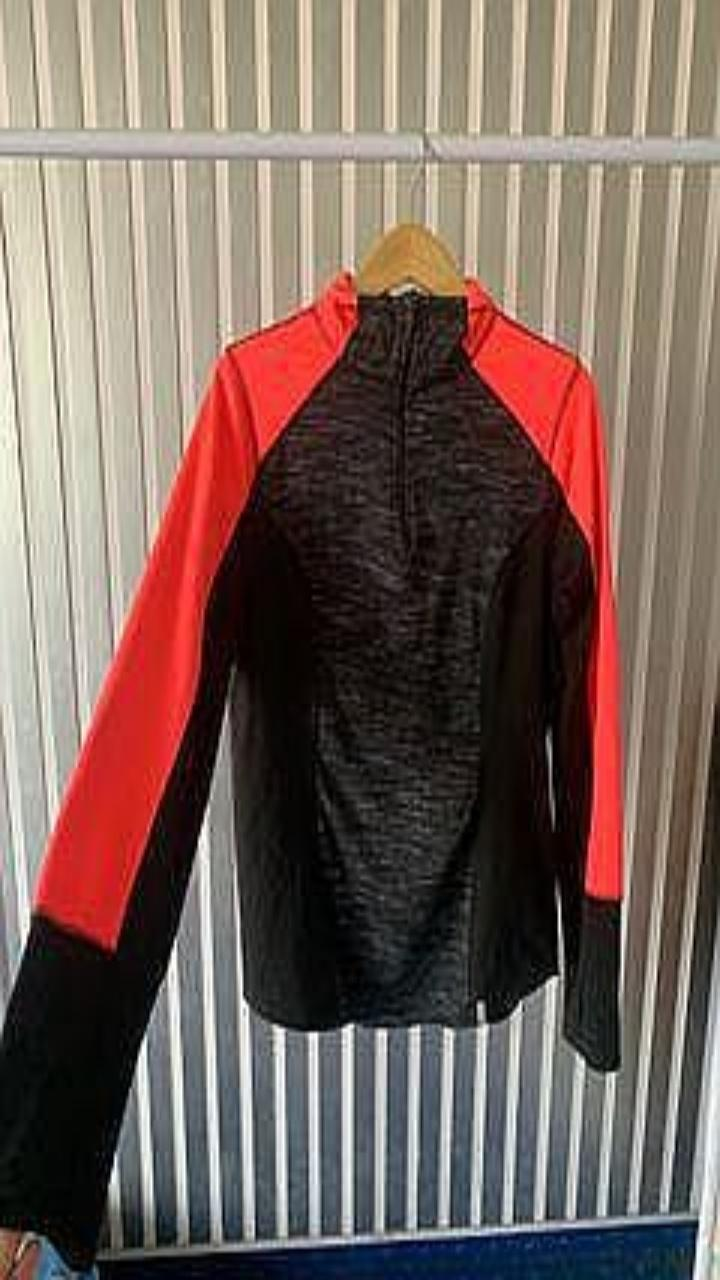Sports_Jacket: (0, 270, 622, 1268)
